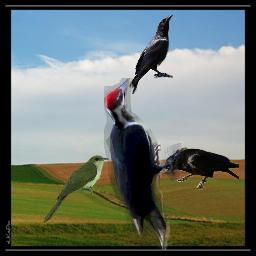Crow: (129, 14, 173, 94), (160, 148, 239, 190)
Cuckoo: (43, 155, 109, 224)
Woodpecker: (104, 78, 184, 250)
